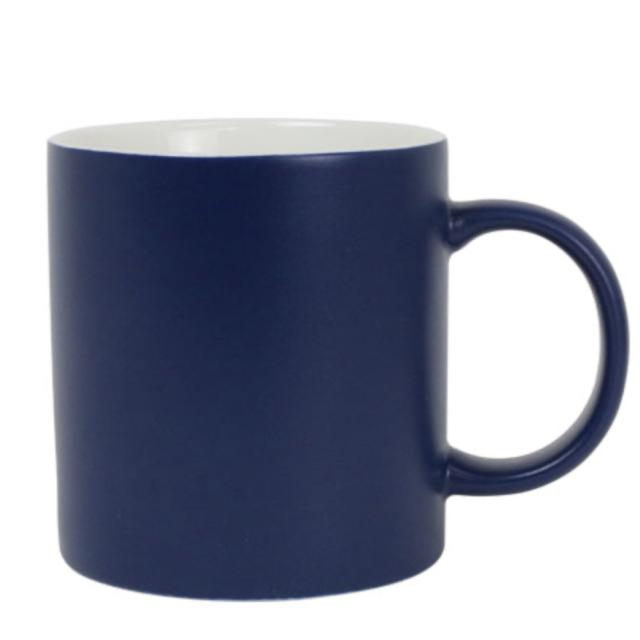recyclable: (26, 97, 636, 610)
